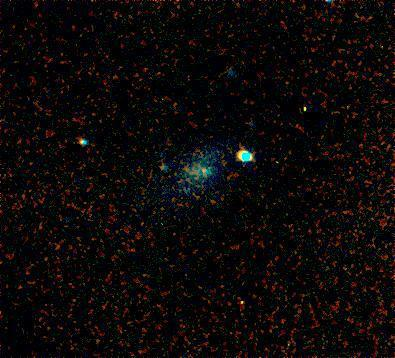star: (189, 154, 219, 184)
